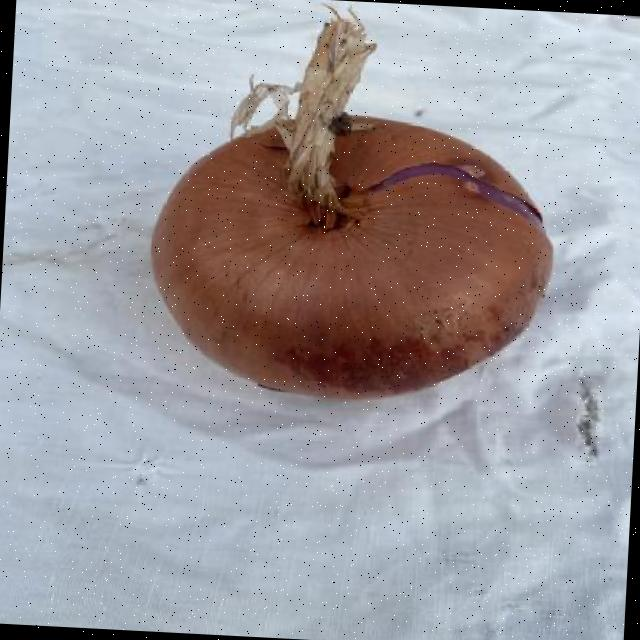Onion: (152, 8, 555, 398)
